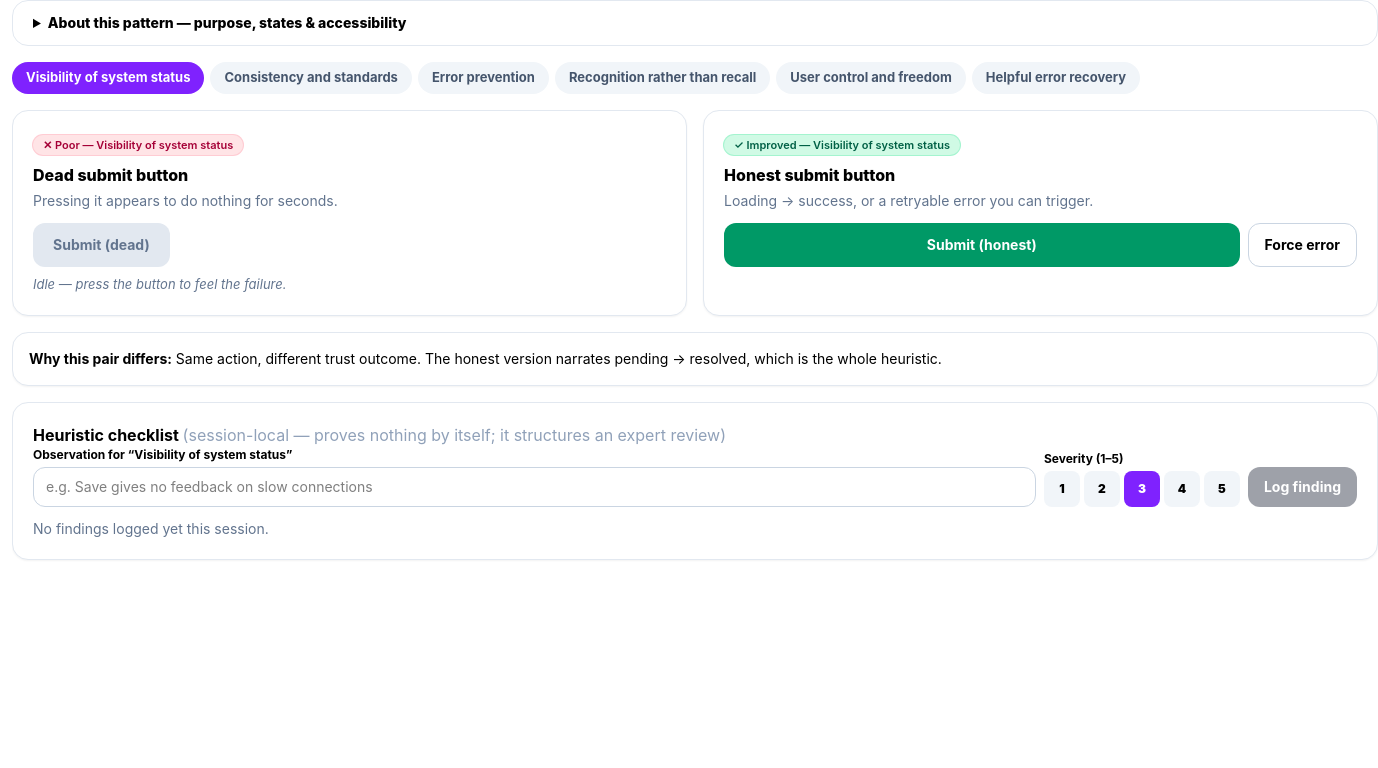
Test: heuristics lab › poor and improved buttons produce different announced outcomes
Click the button "Submit (dead)": (101, 245) [33,223,170,267]
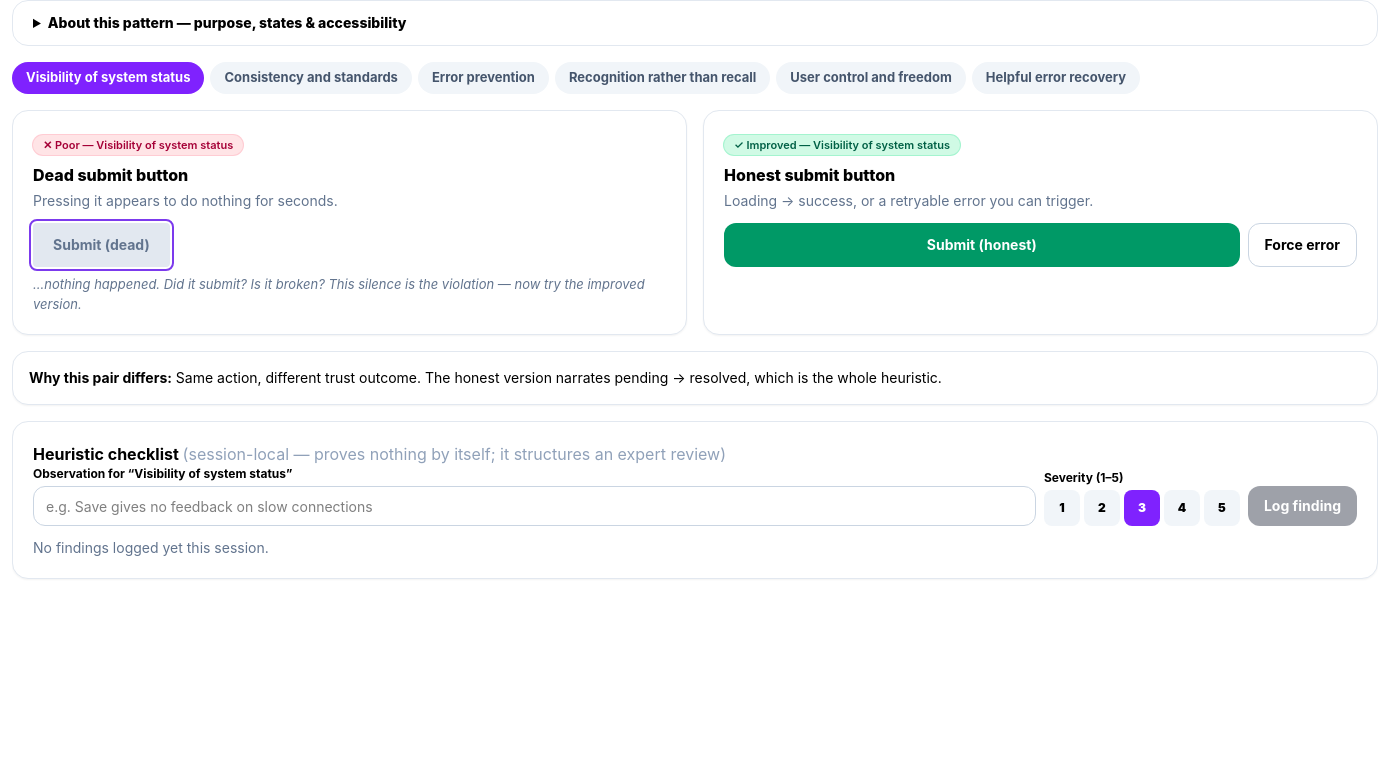
Expected: the text "This silence is the violation" is shown, [33,276,645,312]
Click the button "Submit (honest)": (982, 245) [724,223,1240,267]
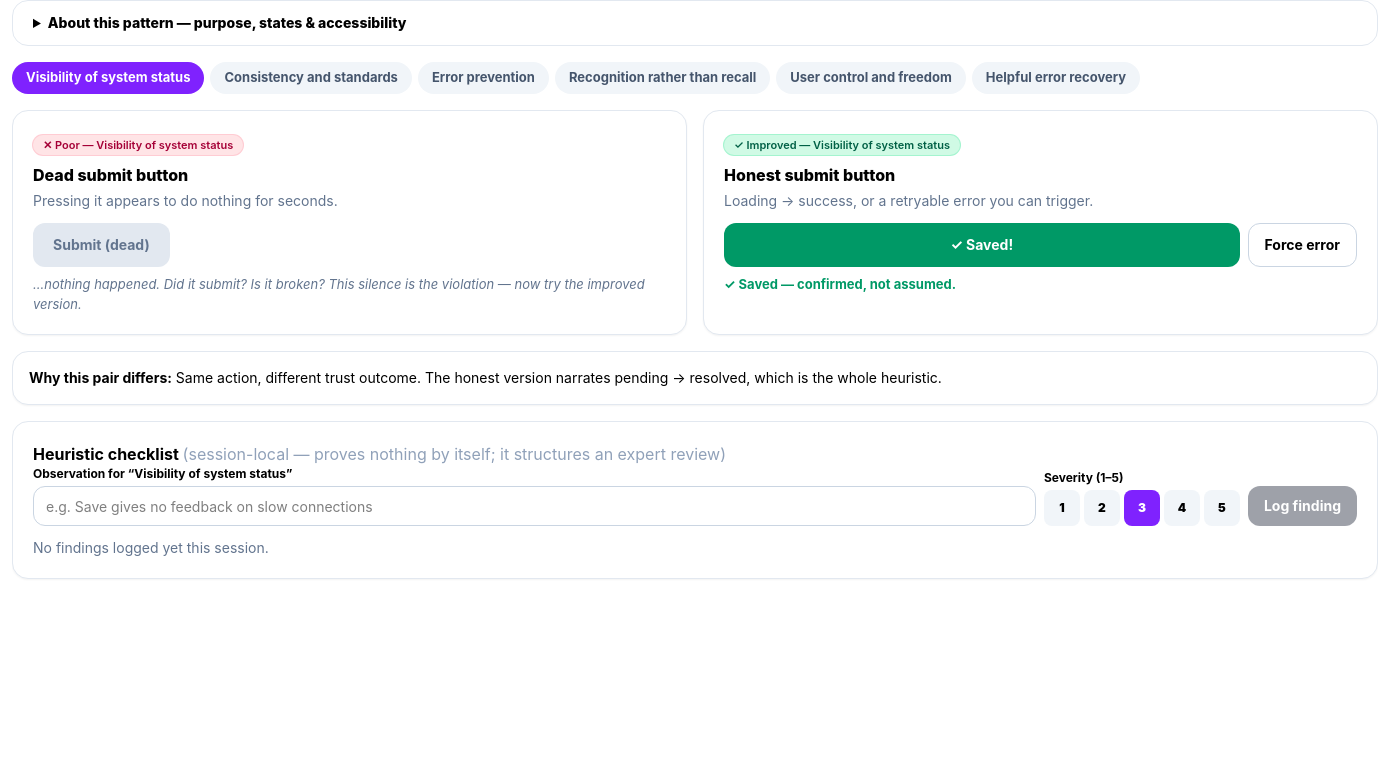
Expected: the text "✓ Saved — confirmed, not assumed." is shown, [724,276,956,292]
Click the button "Force error": (1302, 245) [1248,223,1357,267]
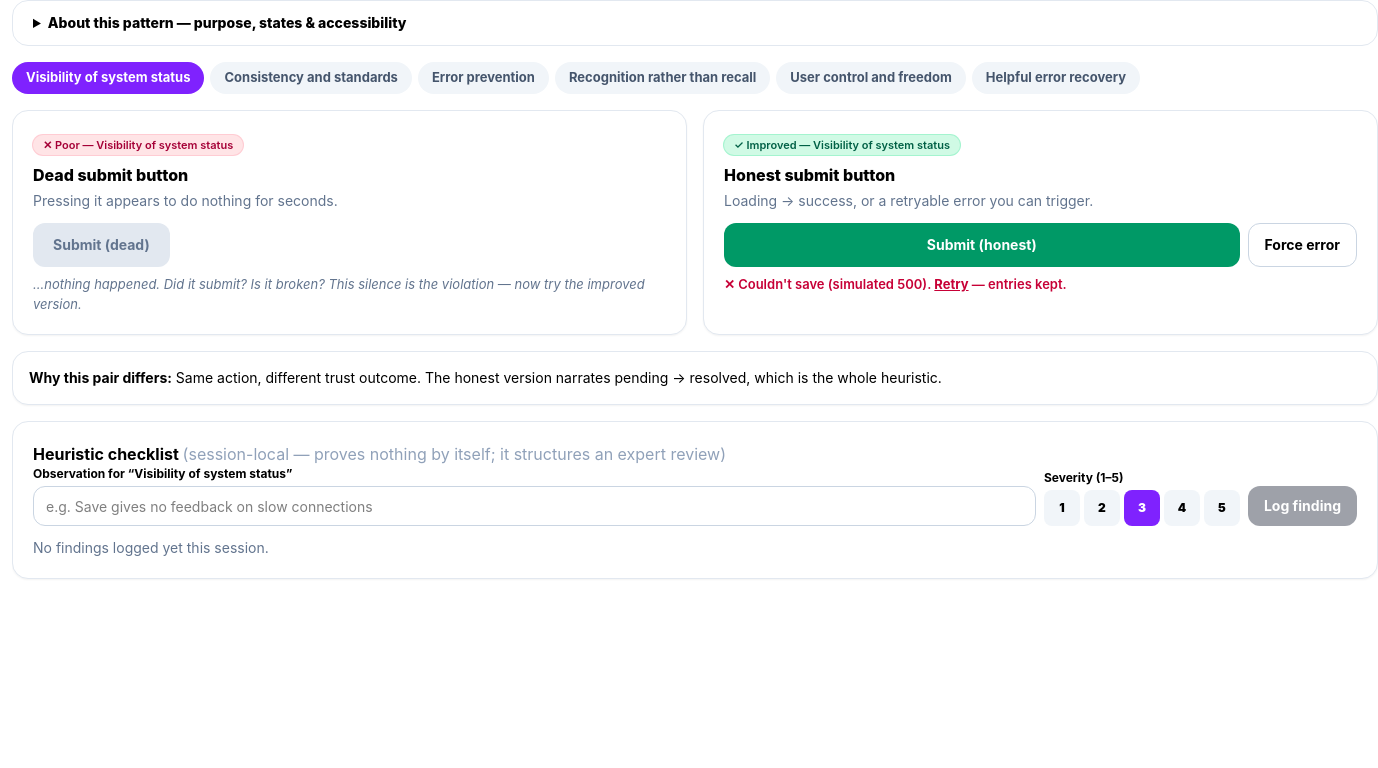
Expected: the button "Retry" is shown, [934,275,968,294]
